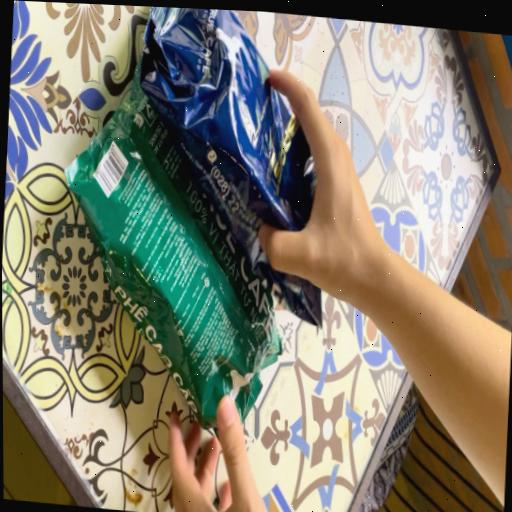cafe_hat: (135, 7, 321, 326)
cafe_xay: (64, 113, 268, 428)
